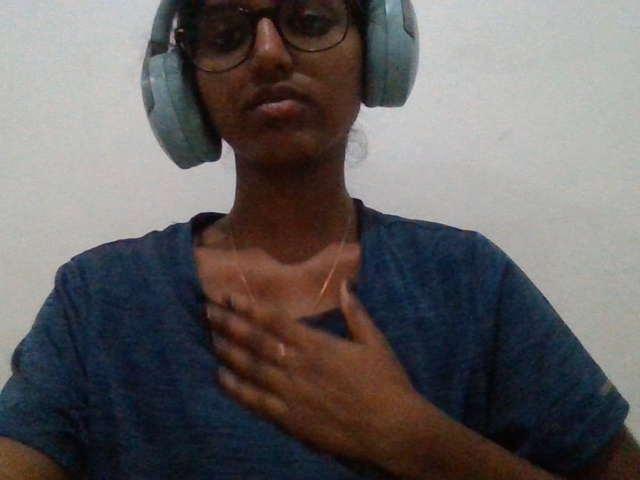Please: (162, 264, 481, 480)
